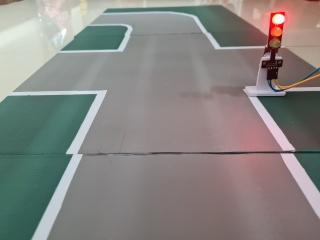red: (260, 7, 291, 64)
